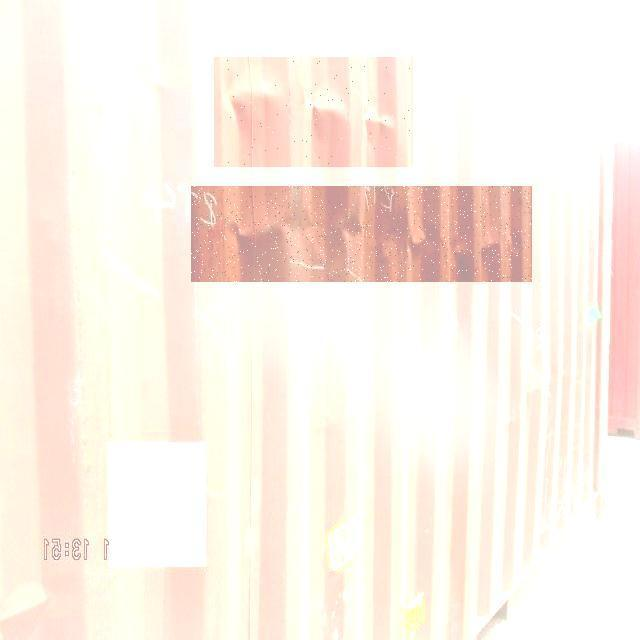dent: (192, 188, 533, 284), (215, 58, 414, 168)
